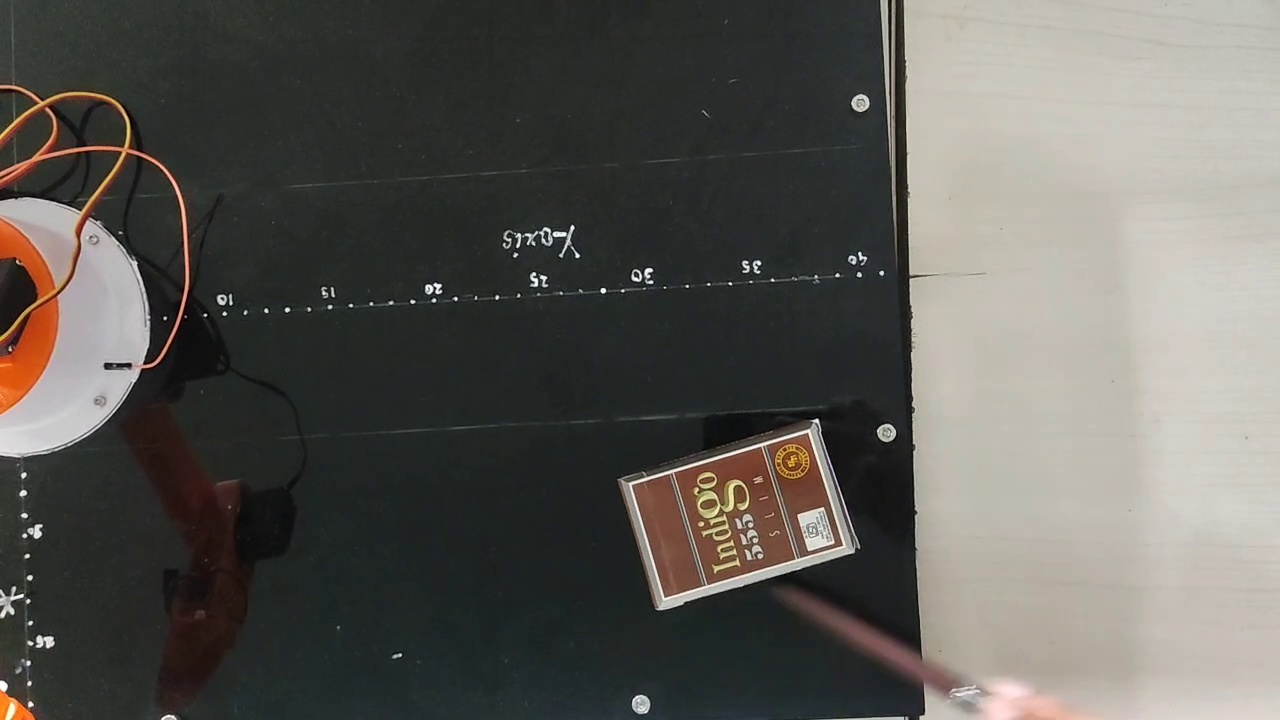BEX: (628, 429, 845, 598)
